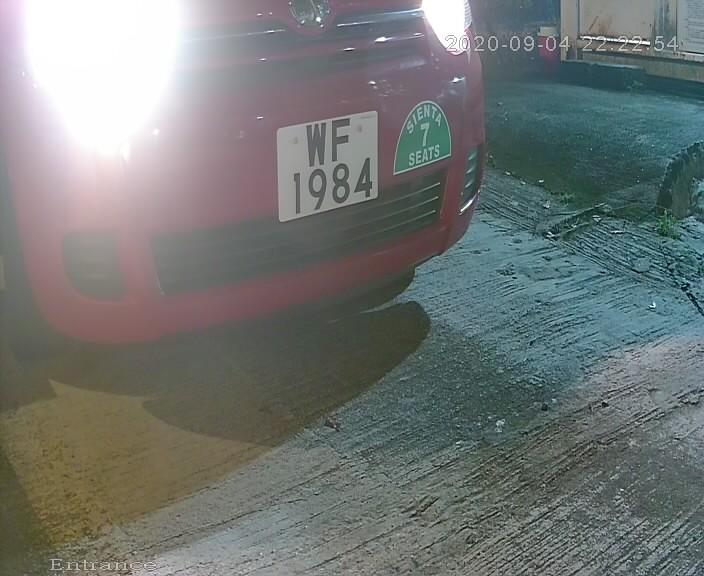License Plate: (268, 93, 387, 229)
